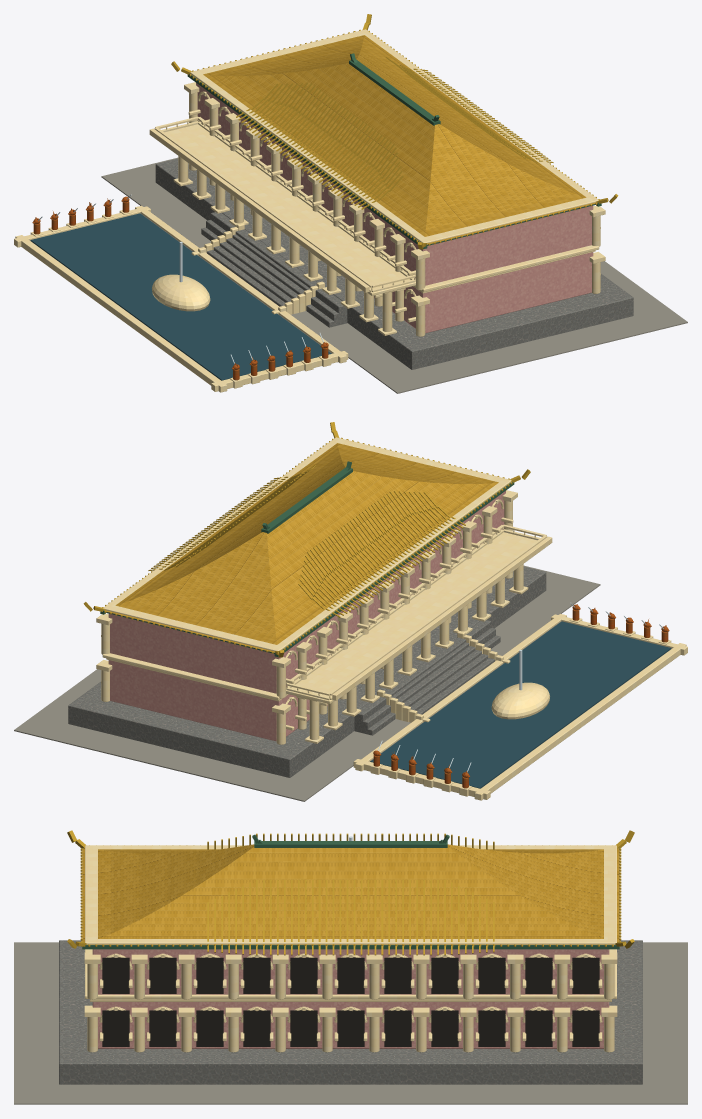
The model's file is haiyantang.glb.
The picture shows the model from 3 angles, top to bottom: view 1: azimuth 30°, elevation 25°; view 2: azimuth 150°, elevation 25°; view 3: azimuth 270°, elevation 25°; orthographic projection. The views are drawn at different scales.
Parts seen in each view (by area): view 1: haiyantang_roof, haiyantang_poolwater, haiyantang_body, haiyantang_apron, haiyantang_plinth, haiyantang_tiles, haiyantang_portslab, haiyantang_cornice2, haiyantang_portbal_balustrade, haiyantang_cope_-1_-7, haiyantang_portfrieze, haiyantang_cope_1_7 (+12 smaller); view 2: haiyantang_roof, haiyantang_poolwater, haiyantang_body, haiyantang_apron, haiyantang_plinth, haiyantang_tiles, haiyantang_portslab, haiyantang_cornice2, haiyantang_portbal_balustrade, haiyantang_cope_-1_-7, haiyantang_portfrieze, haiyantang_cope_1_7 (+12 smaller); view 3: haiyantang_roof, haiyantang_apron, haiyantang_plinth, haiyantang_body, haiyantang_tiles, haiyantang_cornice2, haiyantang_cornice1, haiyantang_fascia_1_0_10, haiyantang_frieze1, haiyantang_ridge, haiyantang_eave, haiyantang_arch0_0_1_recess (+22 smaller).
Part boxes in pixels (left/top/right/bottom): haiyantang_roof: left=190, top=35, right=597, bottom=244; haiyantang_poolwater: left=30, top=213, right=331, bottom=380; haiyantang_body: left=196, top=83, right=593, bottom=333; haiyantang_apron: left=101, top=157, right=687, bottom=393; haiyantang_plinth: left=155, top=158, right=633, bottom=369; haiyantang_tiles: left=236, top=57, right=553, bottom=209; haiyantang_portslab: left=165, top=124, right=415, bottom=295; haiyantang_cornice2: left=190, top=29, right=598, bottom=243; haiyantang_portbal_balustrade: left=154, top=116, right=415, bottom=292; haiyantang_cope_-1_-7: left=15, top=235, right=227, bottom=392; haiyantang_portfrieze: left=149, top=128, right=369, bottom=292; haiyantang_cope_1_7: left=135, top=205, right=346, bottom=363; haiyantang_roof: left=104, top=443, right=511, bottom=652; haiyantang_poolwater: left=370, top=621, right=671, bottom=788; haiyantang_body: left=108, top=491, right=505, bottom=741; haiyantang_apron: left=14, top=565, right=600, bottom=801; haiyantang_plinth: left=68, top=566, right=546, bottom=777; haiyantang_tiles: left=148, top=465, right=465, bottom=617; haiyantang_portslab: left=286, top=532, right=536, bottom=703; haiyantang_cornice2: left=103, top=437, right=511, bottom=651; haiyantang_portbal_balustrade: left=286, top=524, right=547, bottom=700; haiyantang_cope_-1_-7: left=474, top=643, right=686, bottom=800; haiyantang_portfrieze: left=332, top=536, right=552, bottom=700; haiyantang_cope_1_7: left=355, top=613, right=566, bottom=771; haiyantang_roof: left=82, top=844, right=619, bottom=944; haiyantang_apron: left=14, top=942, right=687, bottom=1104; haiyantang_plinth: left=59, top=940, right=642, bottom=1084; haiyantang_body: left=92, top=949, right=609, bottom=1048; haiyantang_tiles: left=207, top=833, right=494, bottom=955; haiyantang_cornice2: left=85, top=845, right=616, bottom=944; haiyantang_cornice1: left=85, top=949, right=616, bottom=998; haiyantang_fascia_1_0_10: left=82, top=945, right=619, bottom=949; haiyantang_frieze1: left=90, top=999, right=611, bottom=1001; haiyantang_ridge: left=254, top=841, right=447, bottom=847; haiyantang_eave: left=80, top=848, right=621, bottom=946; haiyantang_arch0_0_1_recess: left=572, top=1010, right=599, bottom=1046.
Bounding box in the file's own units: 49.8 × 19.07 × 60.
Materials: 11 (5 with a texture image).
